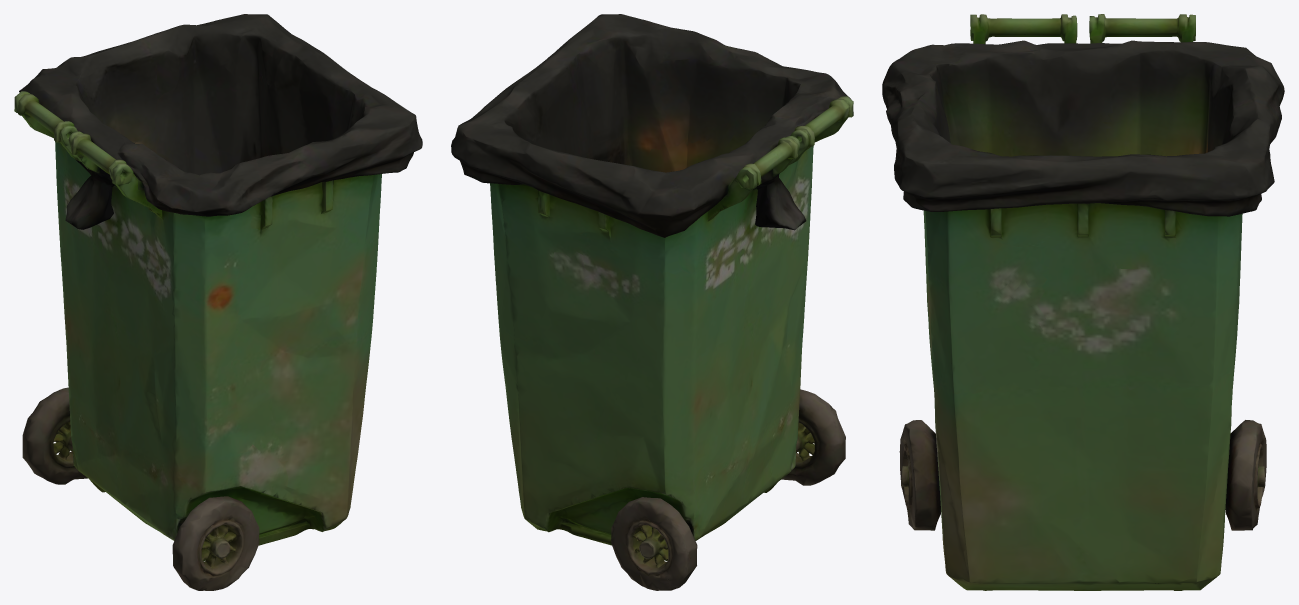
File: tripo_convert_a546878c-fb70-4fea-9beb-4e3c0bc1e235.fbx
The picture shows the model from 3 angles, left to right: view 1: azimuth 30°, elevation 25°; view 2: azimuth 150°, elevation 25°; view 3: azimuth 270°, elevation 25°; orthographic projection. The views are drawn at different scales.
Visible parts, largest first — view 1: tripo_node_a546878c; view 2: tripo_node_a546878c; view 3: tripo_node_a546878c.
Part boxes in pixels (left/top/right/bottom): tripo_node_a546878c: left=14, top=14, right=422, bottom=590; tripo_node_a546878c: left=451, top=14, right=853, bottom=590; tripo_node_a546878c: left=882, top=14, right=1284, bottom=590.
Size of the model in its own units: 0.7095 by 1 by 0.769.
Materials: 1 (1 with a texture image).
